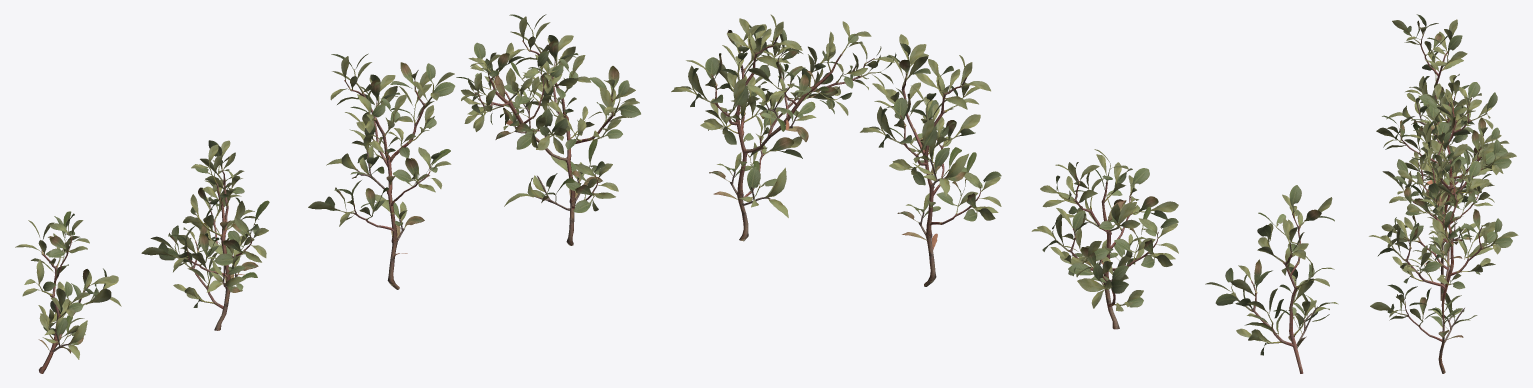
File: shrub_04.glb
The picture shows the model from 3 angles, left to right: view 1: azimuth 30°, elevation 25°; view 2: azimuth 150°, elevation 25°; view 3: azimuth 270°, elevation 25°; orthographic projection. The views are drawn at different scales.
Visible parts, largest first — view 1: shrub_04; view 2: shrub_04; view 3: shrub_04.
Boxes of the visible parts, bbox=[...] form: shrub_04: bbox=[15, 14, 640, 373]; shrub_04: bbox=[671, 14, 1338, 373]; shrub_04: bbox=[1369, 14, 1518, 373].
Size of the model in its own units: 0.5837 by 0.2192 by 0.1461.
Materials: 1 (1 with a texture image).
